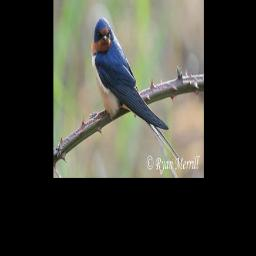Swallow: (90, 16, 183, 167)
